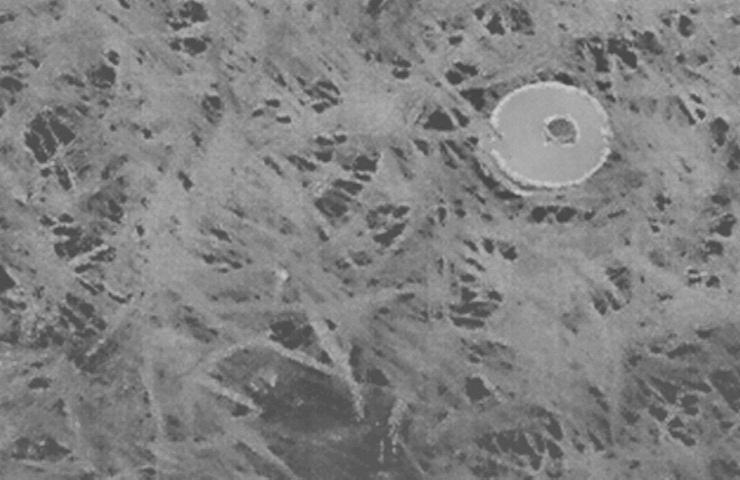landmines: (481, 77, 628, 195)
